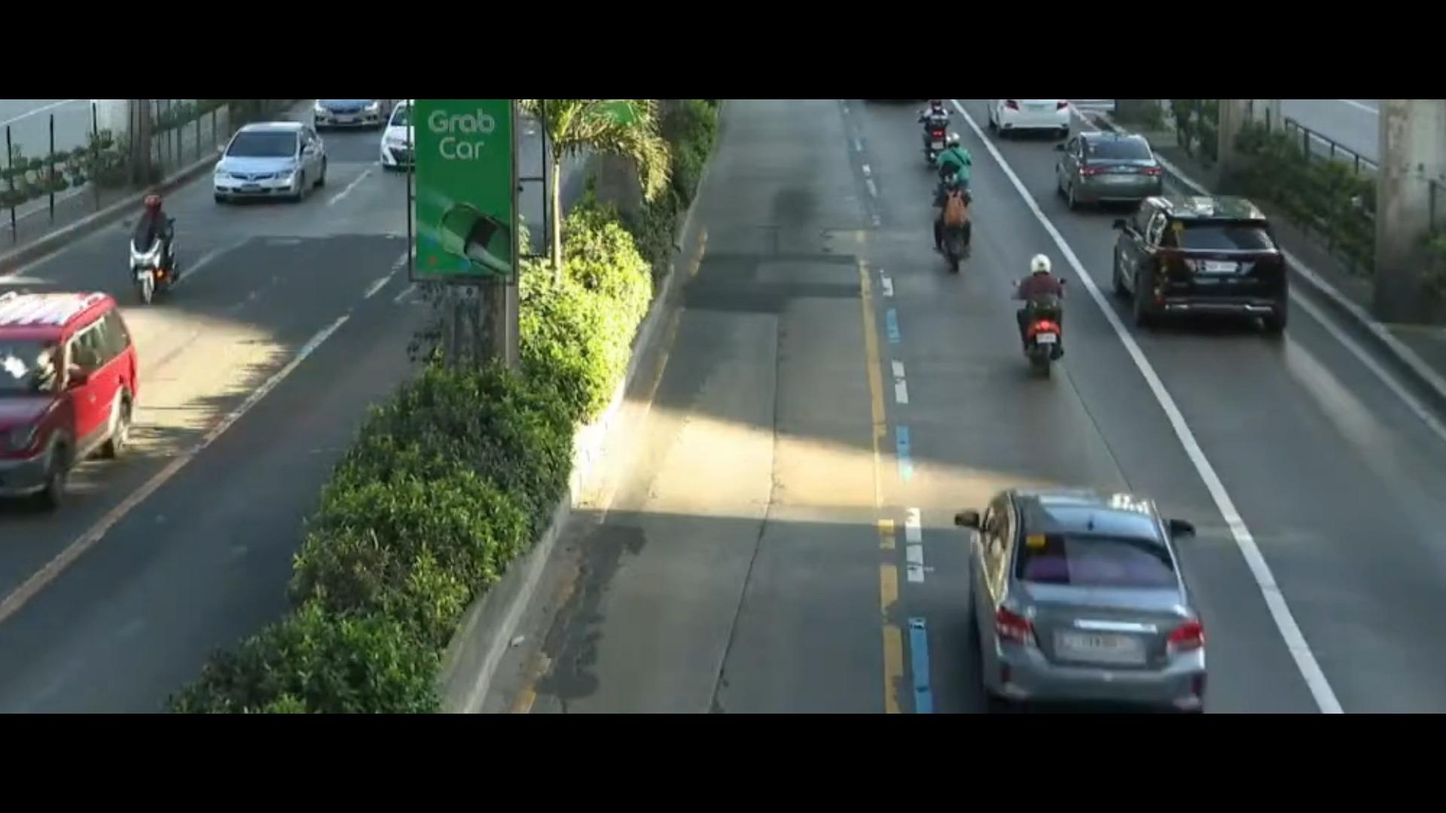Motorcycle: (993, 251, 1088, 382), (915, 169, 992, 298), (123, 179, 191, 322), (894, 111, 971, 169)
SUV: (1092, 174, 1311, 358), (0, 292, 141, 505)
Sedan: (942, 455, 1212, 703), (1025, 116, 1185, 215), (210, 112, 317, 211)
